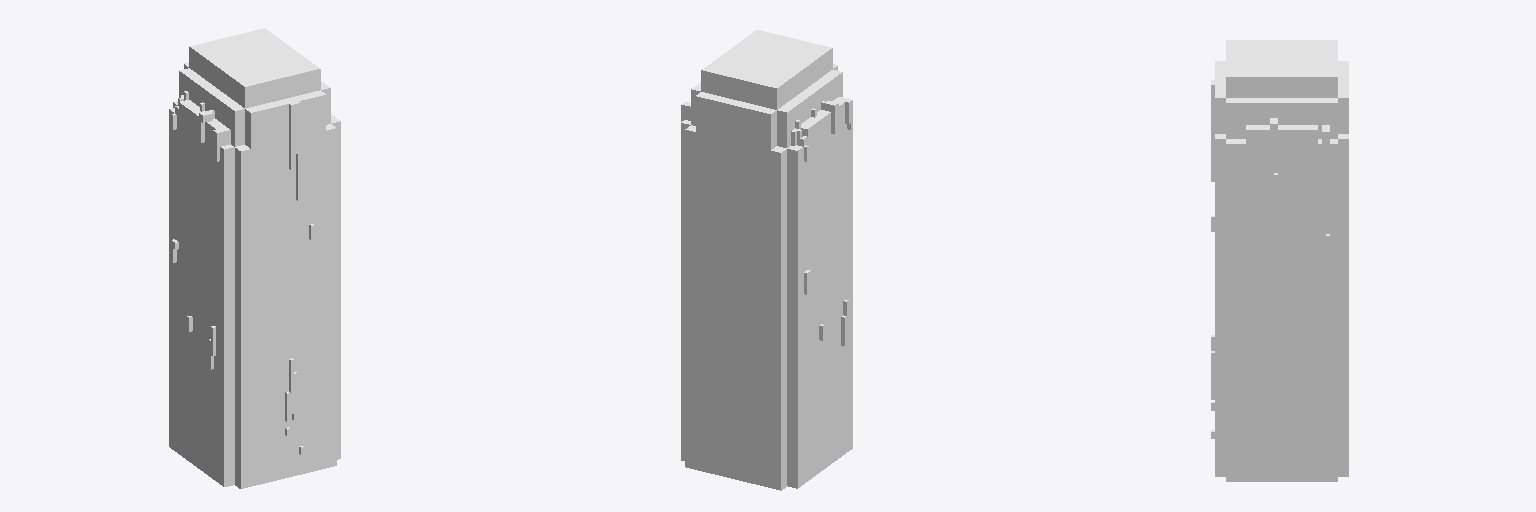
The model's file is SoulGothic_FreeSample_001-7.obj.
3 renders of one model, left to right at view 1: azimuth 30°, elevation 25°; view 2: azimuth 150°, elevation 25°; view 3: azimuth 270°, elevation 25°, orthographic.
Parts seen in each view (by area): view 1: object 1; view 2: object 1; view 3: object 1.
Part boxes in pixels (bbox=[...]): object 1: bbox=[169, 28, 340, 488]; object 1: bbox=[681, 30, 852, 490]; object 1: bbox=[1211, 40, 1348, 481].
Bounding box in the file's own units: 1.44 × 4.4 × 1.4.